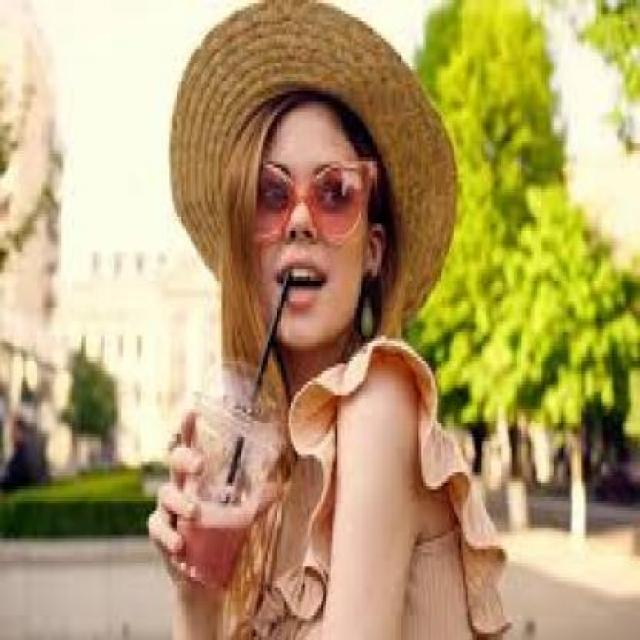glasses: (222, 147, 390, 261)
